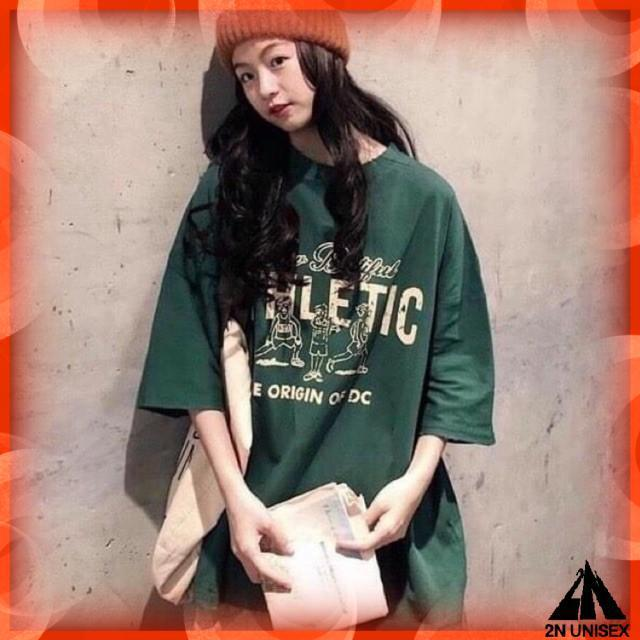Shirt: (130, 126, 502, 639)
